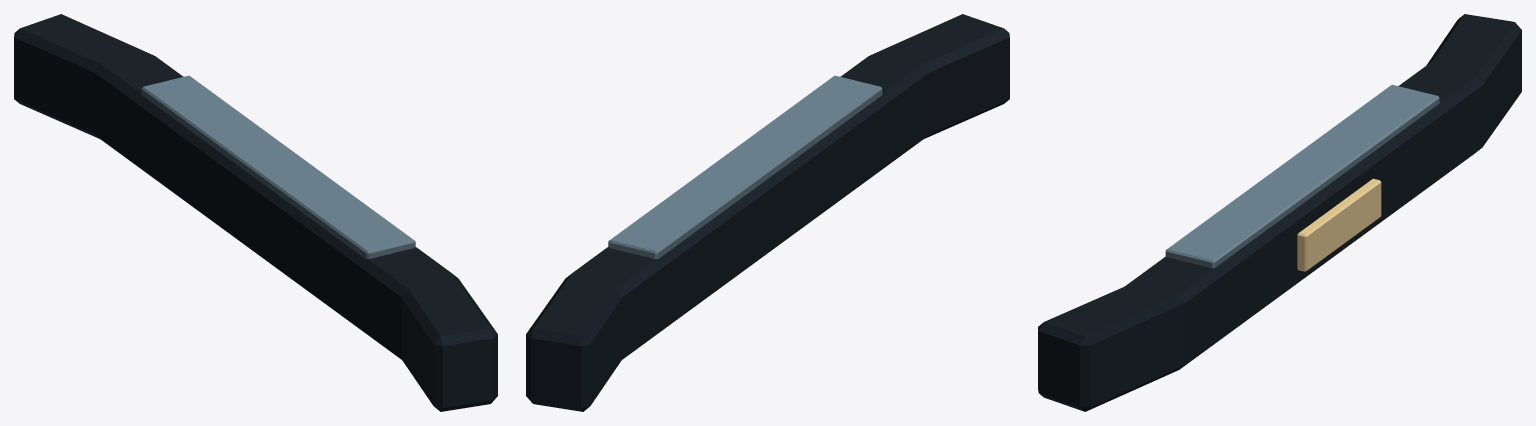
File: QC_RearBumper.fbx
The picture shows the model from 3 angles, left to right: view 1: azimuth 30°, elevation 25°; view 2: azimuth 150°, elevation 25°; view 3: azimuth 330°, elevation 25°; orthographic projection.
Visible parts, largest first — view 1: QC_RearBumper; view 2: QC_RearBumper; view 3: QC_RearBumper.
Boxes of the visible parts, x1,y1,x2,y2 form: QC_RearBumper: (14, 14, 497, 411); QC_RearBumper: (526, 14, 1009, 411); QC_RearBumper: (1038, 14, 1521, 411).
Bounding box in the file's own units: 0.2361 × 0.194 × 1.85.
